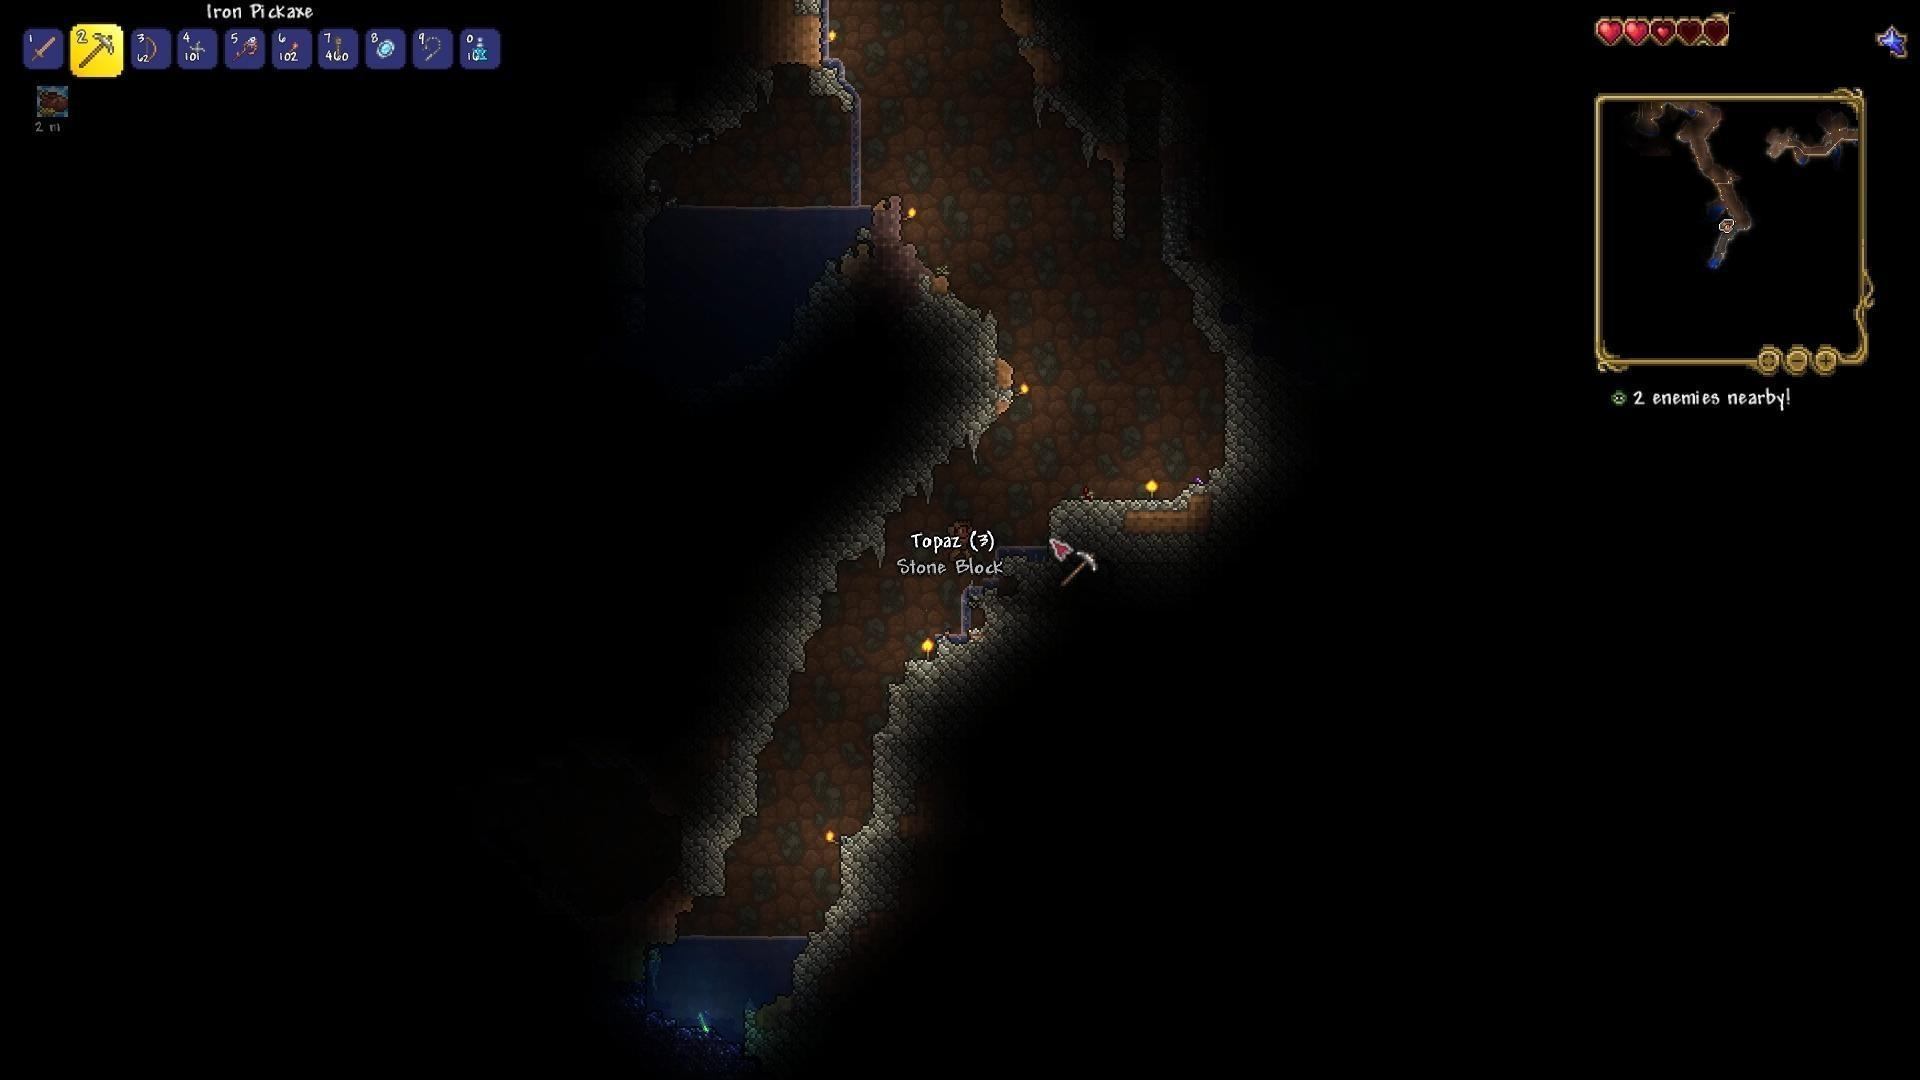heart: (1593, 16, 1626, 46), (1625, 15, 1651, 44)
liquid: (650, 183, 876, 236), (665, 922, 810, 948)
stone: (682, 676, 786, 910), (795, 479, 905, 641), (884, 661, 1018, 770), (1158, 222, 1280, 339), (1204, 334, 1283, 512), (935, 291, 997, 465), (1050, 498, 1127, 615), (837, 816, 915, 923), (785, 940, 880, 1004)
